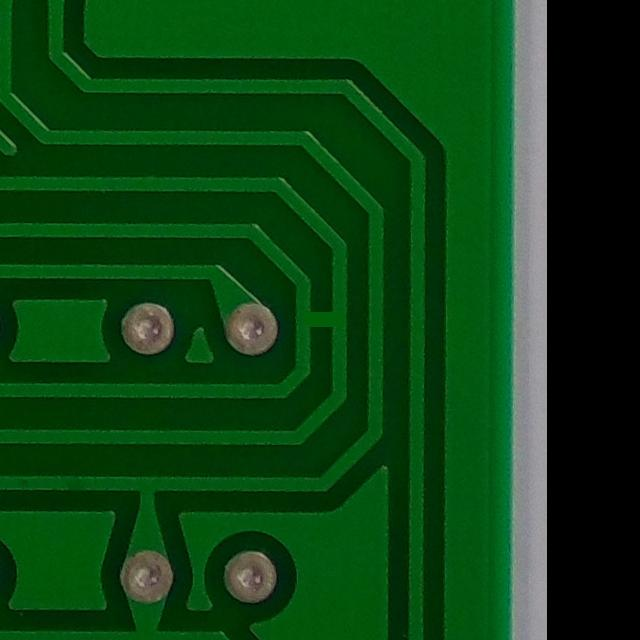short: (287, 293, 353, 347)
